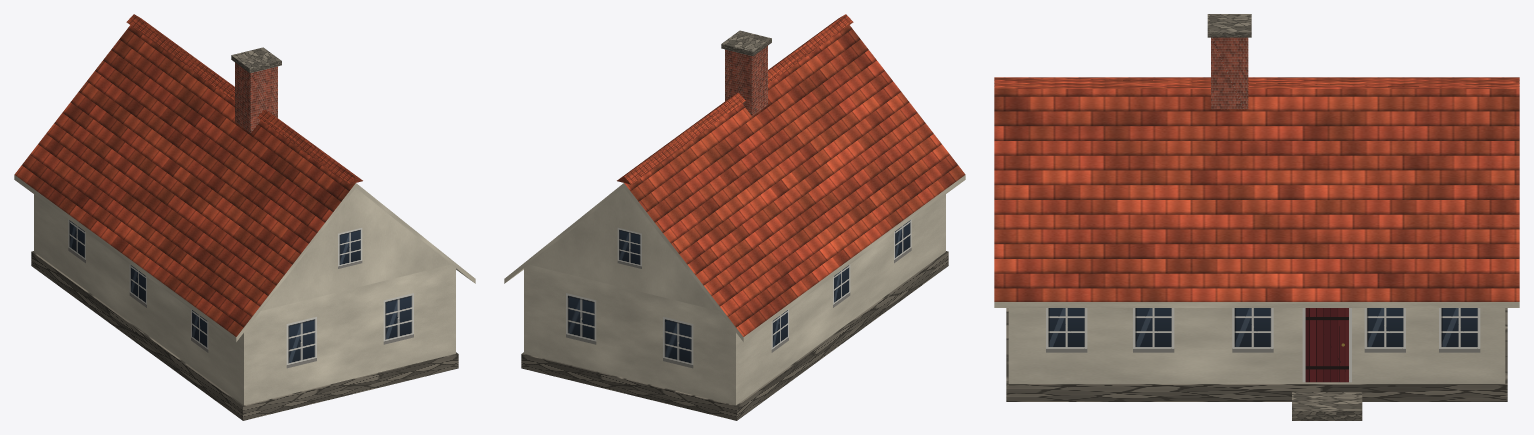
Rendered from SM_TownHouse_White.fbx.
3 views of the same model, side by side, from view 1: azimuth 30°, elevation 25°; view 2: azimuth 150°, elevation 25°; view 3: azimuth 270°, elevation 25° (orthographic). The views are drawn at different scales.
Parts seen in each view (by area): view 1: SM_TownHouse_White; view 2: SM_TownHouse_White; view 3: SM_TownHouse_White.
Part boxes in pixels (x1,y1,x2,y2): SM_TownHouse_White: [14, 14, 475, 420]; SM_TownHouse_White: [504, 14, 965, 420]; SM_TownHouse_White: [994, 14, 1519, 420].
Size of the model in its own units: 860 by 1270 by 844.
Materials: 1 (1 with a texture image).
